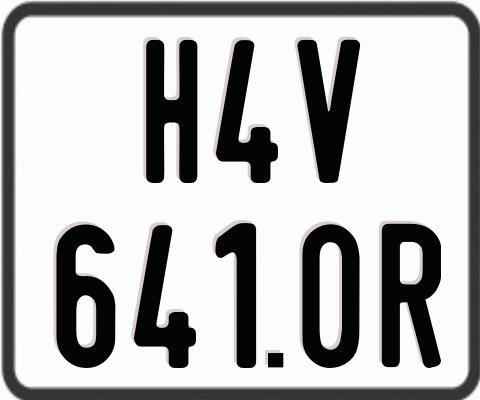0: (301, 221, 363, 371)
1: (212, 222, 259, 369)
4: (214, 38, 279, 181), (131, 223, 193, 366)
6: (53, 223, 115, 371)
H: (145, 40, 198, 185)
R: (380, 222, 442, 366)
V: (296, 37, 364, 183)
